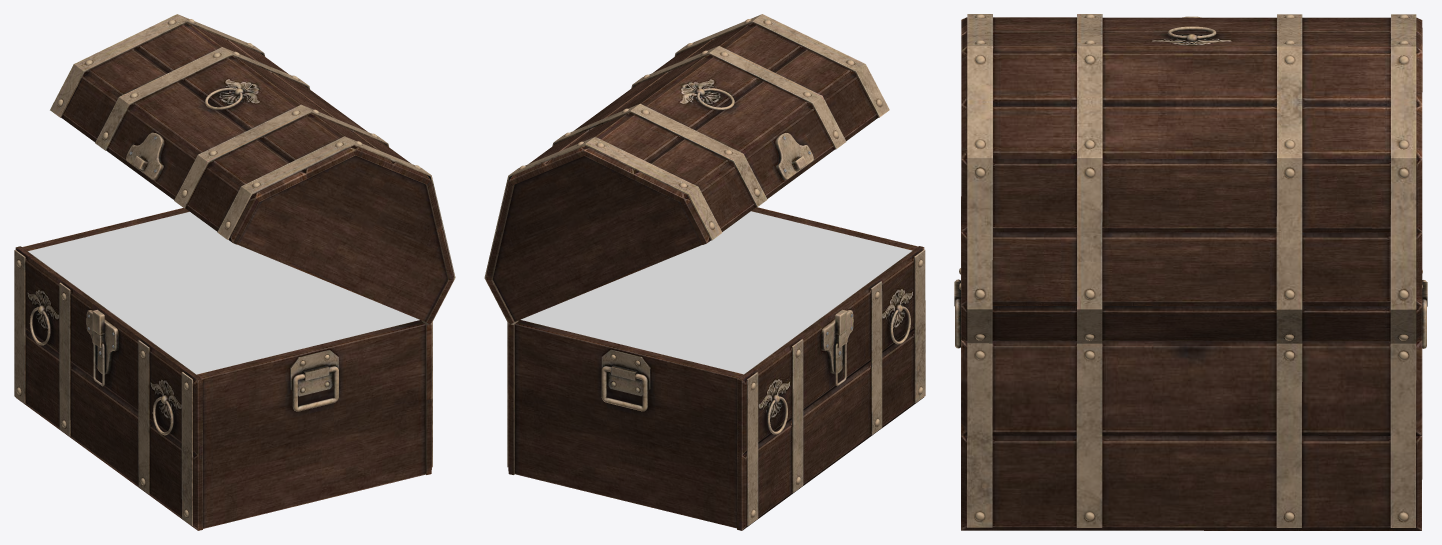
Rendered from treasure-chest-high.glb.
3 renders of one model, left to right at view 1: azimuth 30°, elevation 25°; view 2: azimuth 150°, elevation 25°; view 3: azimuth 270°, elevation 25°, orthographic. The views are drawn at different scales.
Visible parts, largest first — view 1: chest_body, chest_inside; view 2: chest_body, chest_inside; view 3: chest_body.
Part boxes in pixels (x1,y1,x2,y2): chest_body: (14,14,455,530); chest_inside: (28,212,419,374); chest_body: (484,14,925,530); chest_inside: (521,211,911,374); chest_body: (954,14,1427,530).
Bounding box in the file's own units: 2.31 × 2.82 × 2.76.
Materials: 2 (1 with a texture image).
